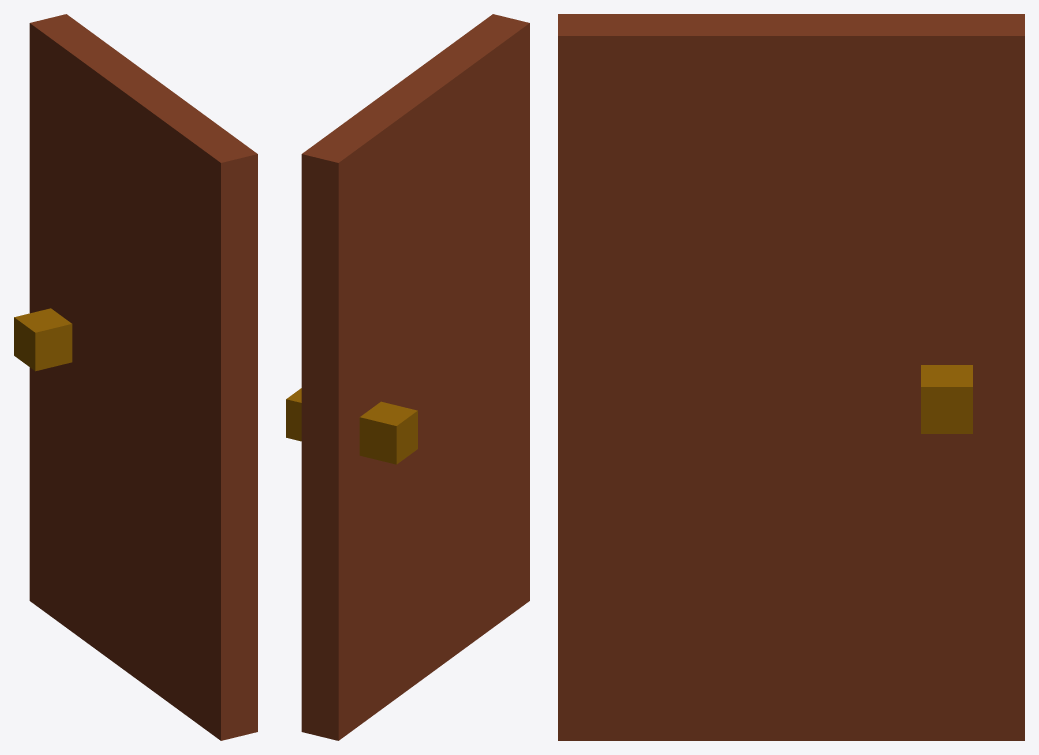
Rendered from Door 1.obj.
The picture shows the model from 3 angles, left to right: view 1: azimuth 30°, elevation 25°; view 2: azimuth 150°, elevation 25°; view 3: azimuth 270°, elevation 25°; orthographic projection. The views are drawn at different scales.
Visible parts, largest first — view 1: Door 1; view 2: Door 1; view 3: Door 1.
Boxes of the visible parts, box(x1,y1,x2,y2) form: Door 1: box(14, 14, 257, 740); Door 1: box(286, 14, 529, 740); Door 1: box(558, 14, 1024, 740).
Size of the model in its own units: 3 by 15 by 9.
